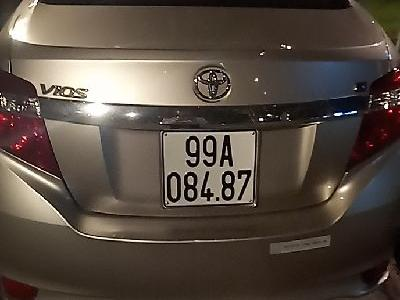car: (158, 126, 261, 212)
